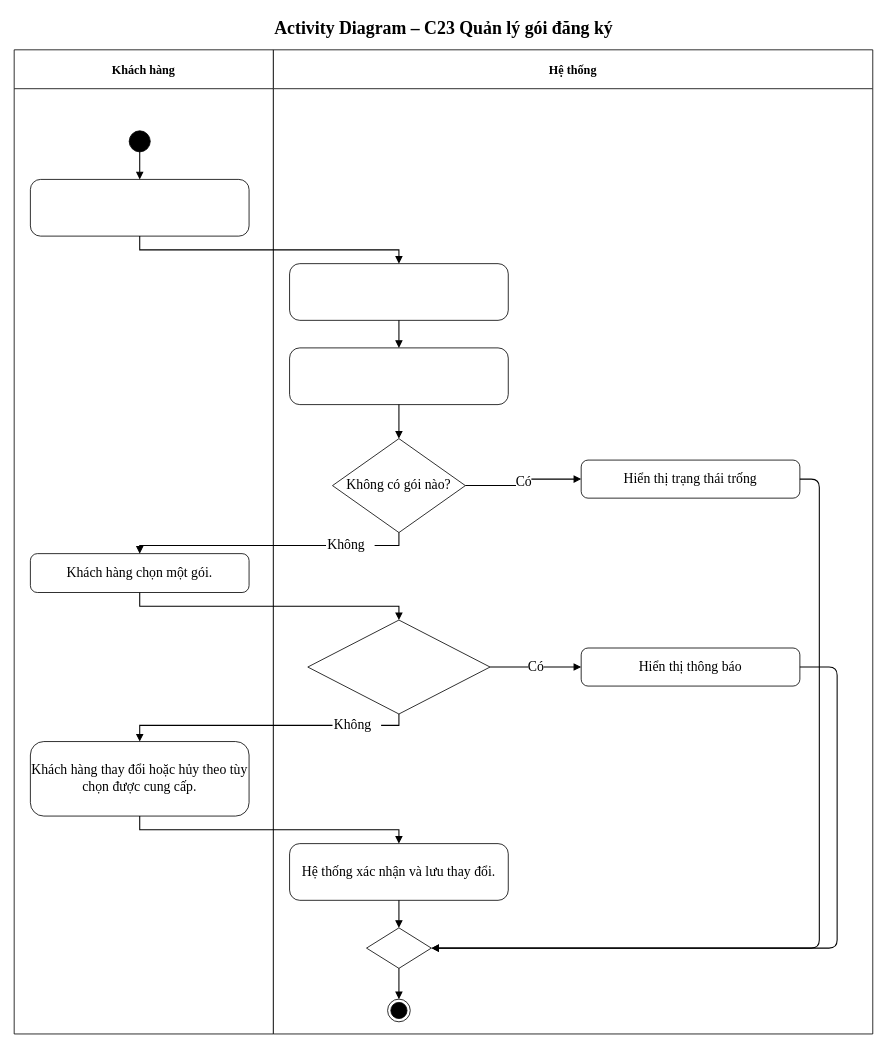
The diagram is 887 pixels wide and 1048 high, and some of its shapes have lost their labels. The centre of each missing label's shape, as x and y in pixels:
Gói không cho phép thay đổi tại thời điểm hiện tại?: (x=398, y=666)
Hệ thống tải các gói đang hoạt động/hết hạn.: (x=398, y=376)
Khách hàng mở khu vực quản lý gói đăng ký.: (x=139, y=207)
Use case thực hiện C16 – Đăng nhập nếu cần.: (x=398, y=291)
